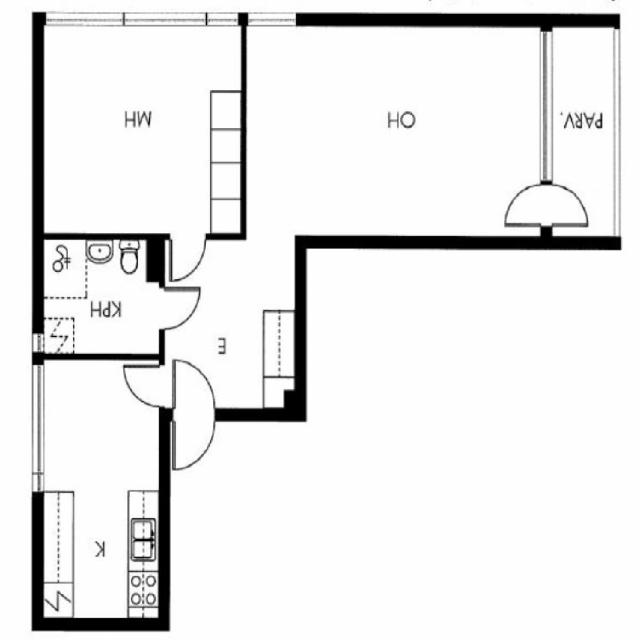door: (173, 409, 214, 468), (173, 362, 214, 421), (506, 184, 552, 226), (541, 184, 587, 226), (159, 288, 201, 329), (124, 366, 164, 407), (170, 234, 205, 279)
